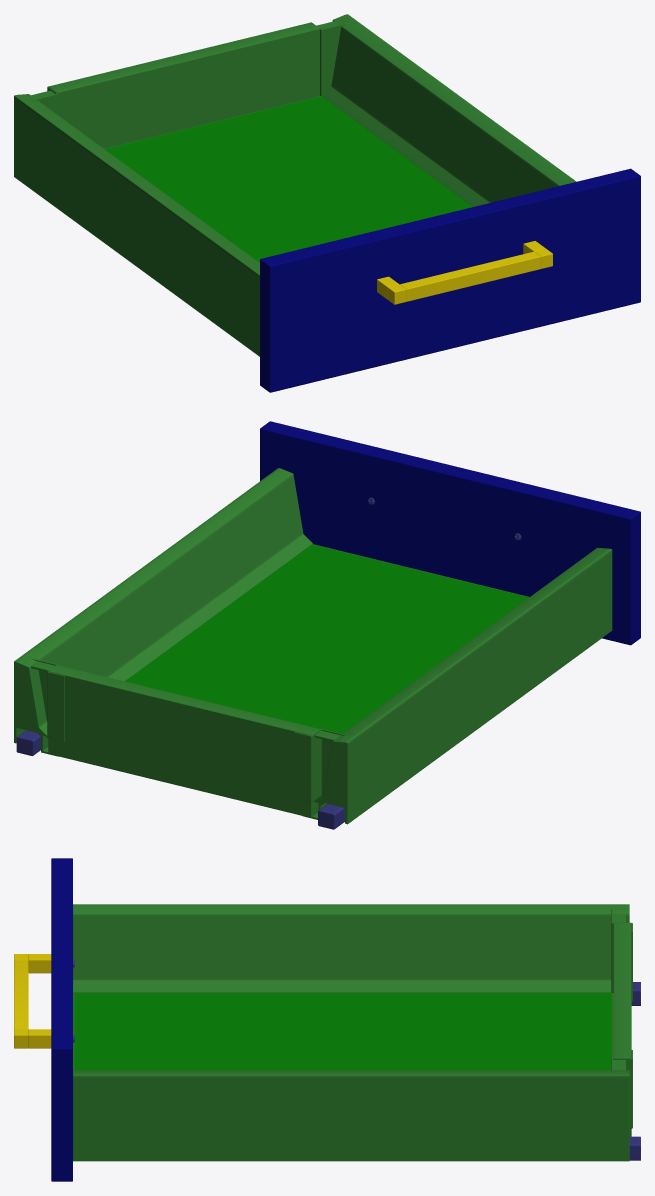
The model's file is SM_Kitchen_03_Base_Drawer_01.fbx.
3 views of the same model, one above another, from view 1: azimuth 30°, elevation 25°; view 2: azimuth 150°, elevation 25°; view 3: azimuth 270°, elevation 25° (orthographic). The views are drawn at different scales.
Parts seen in each view (by area): view 1: SM_Kitchen_03_Base_Drawer_01; view 2: SM_Kitchen_03_Base_Drawer_01; view 3: SM_Kitchen_03_Base_Drawer_01.
Boxes of the visible parts, x1,y1,x2,y2 form: SM_Kitchen_03_Base_Drawer_01: (14,14,640,392); SM_Kitchen_03_Base_Drawer_01: (14,421,640,829); SM_Kitchen_03_Base_Drawer_01: (14,858,640,1181).
Size of the model in its own units: 39.8 by 13 by 55.29.
